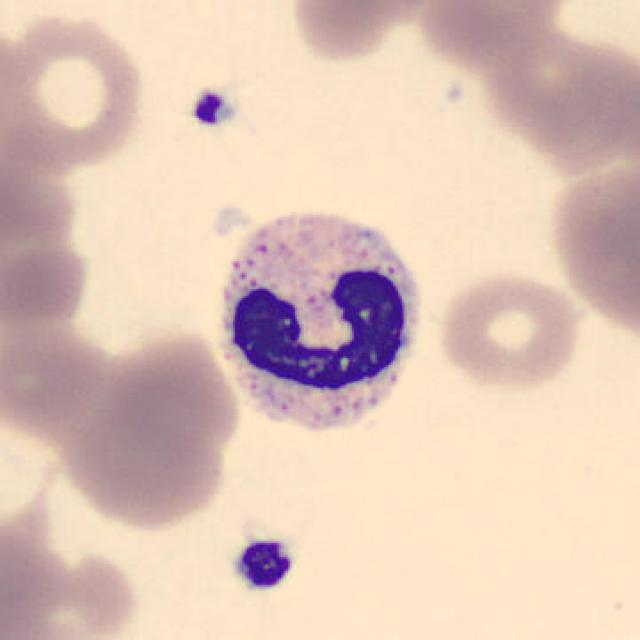Neutrophil: (204, 198, 428, 446)
Platelets: (229, 534, 297, 594), (185, 83, 238, 132)
RBC: (55, 365, 238, 531), (473, 16, 636, 178), (0, 7, 149, 172), (90, 324, 244, 466), (432, 268, 583, 395), (542, 152, 638, 342), (2, 541, 146, 640), (0, 316, 113, 442), (283, 0, 448, 67), (0, 231, 89, 355), (0, 144, 83, 267), (412, 2, 576, 60)
